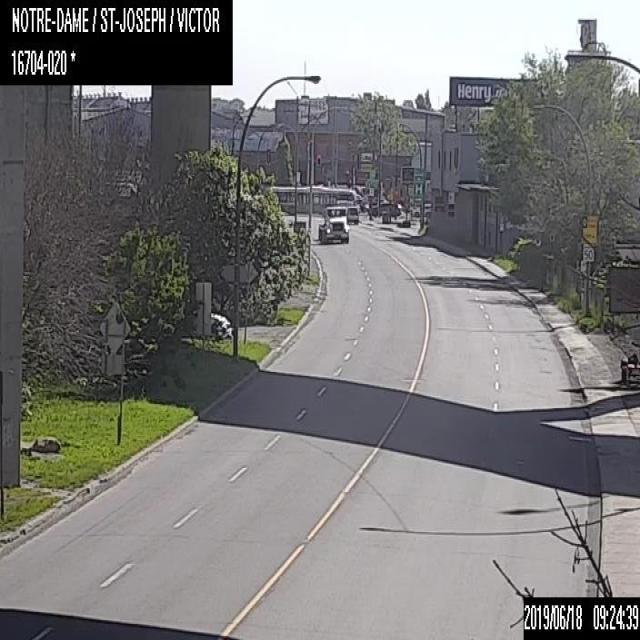bus: (272, 185, 355, 213)
construction: (608, 262, 639, 391)
vehicle: (317, 205, 349, 243), (210, 312, 231, 340), (370, 201, 400, 216), (412, 202, 431, 216), (346, 206, 358, 224)
